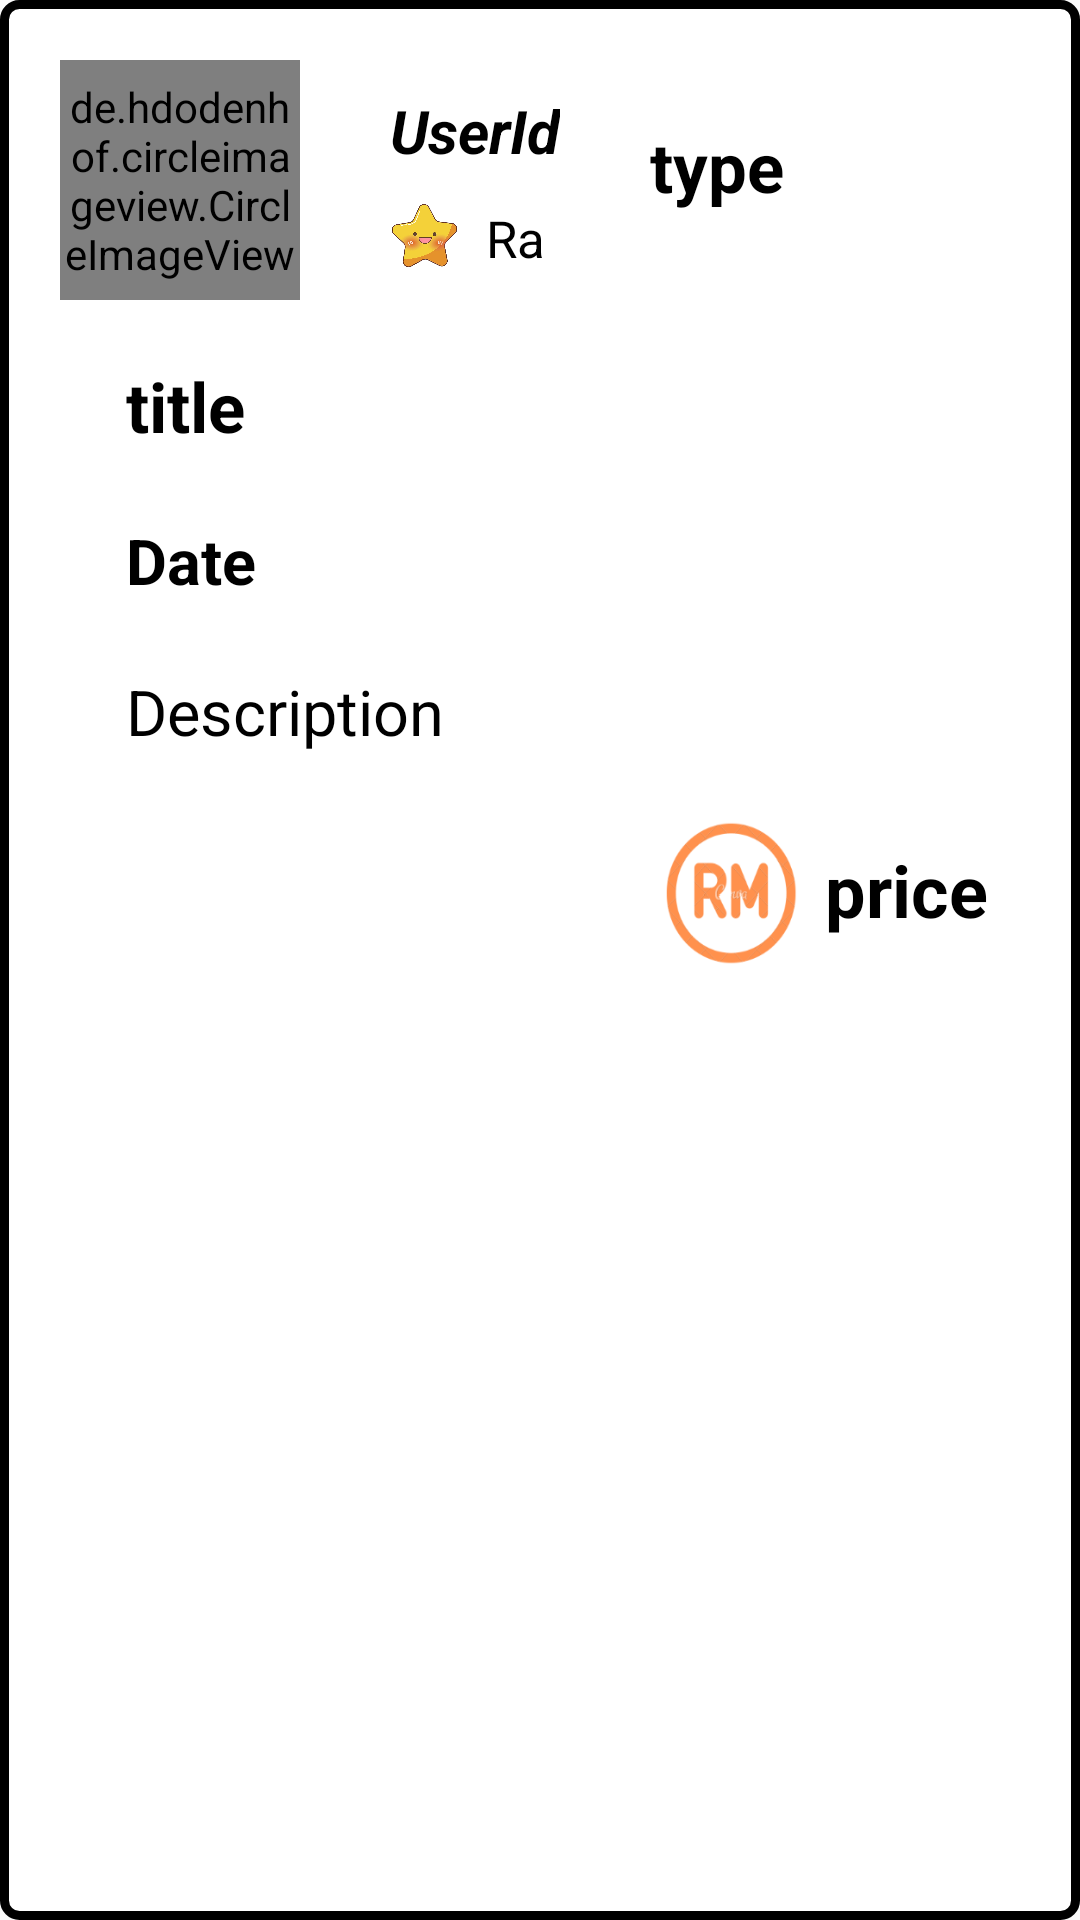

Point at icon controls on the screen. Image size 1080 × 1920, points as (x,y).
money: (731,893)
